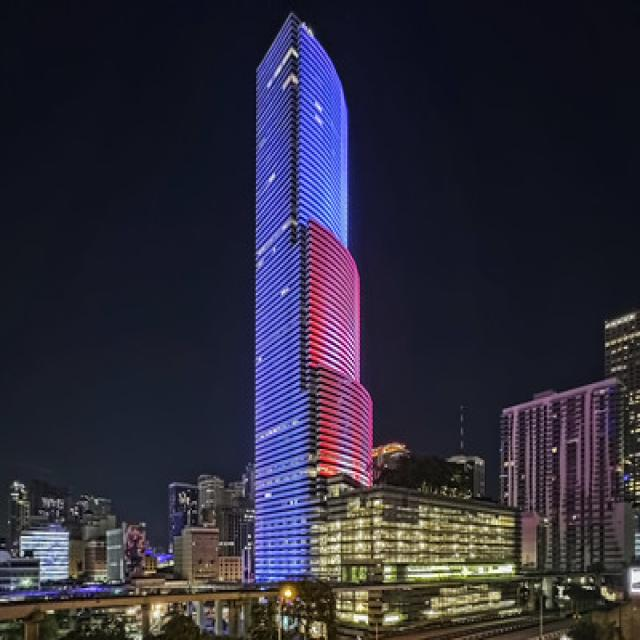building: (247, 8, 380, 602)
